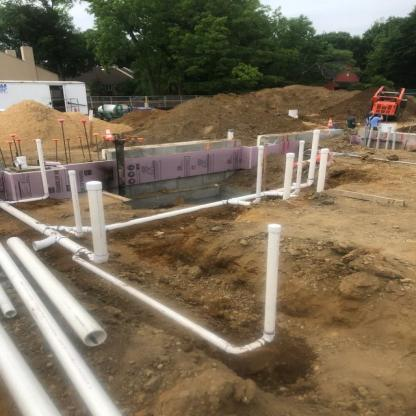PVC: (0, 130, 319, 353), (0, 243, 124, 416), (9, 237, 107, 345), (1, 323, 61, 416), (1, 284, 17, 317), (318, 148, 328, 193)
